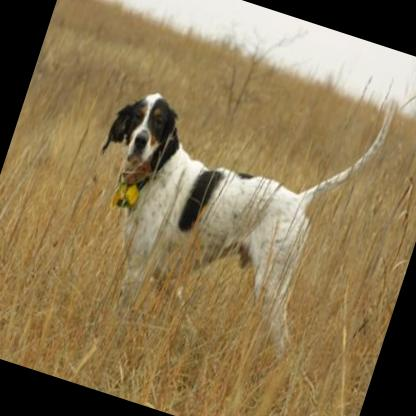English_setter: (52, 13, 400, 374)
